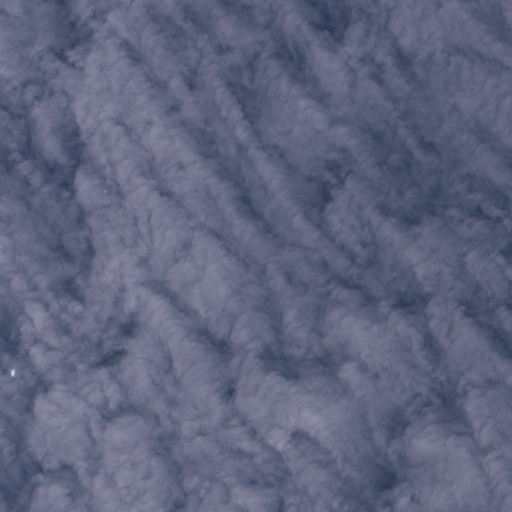Iceberg: (10, 369, 14, 376), (104, 190, 106, 192)
